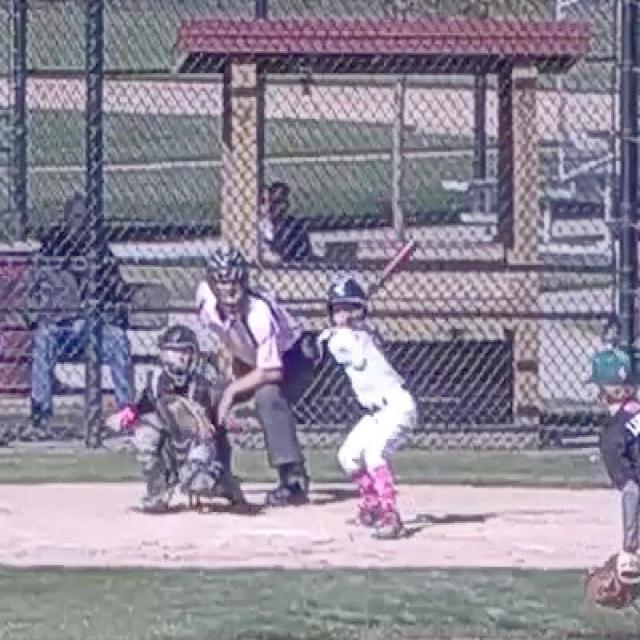baseball: (352, 356, 366, 369)
